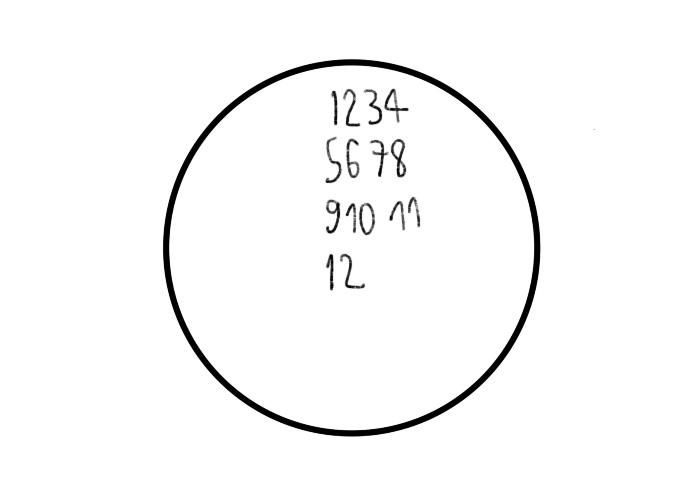eight: (389, 135, 408, 178)
eleven: (388, 196, 424, 233)
five: (323, 134, 342, 186)
four: (383, 84, 409, 129)
nine: (321, 197, 341, 236)
one: (332, 86, 341, 126)
seven: (370, 137, 390, 179)
six: (344, 136, 361, 178)
ten: (343, 198, 376, 238)
three: (363, 85, 383, 128)
twelve: (323, 250, 367, 291)
two: (341, 84, 362, 129)
